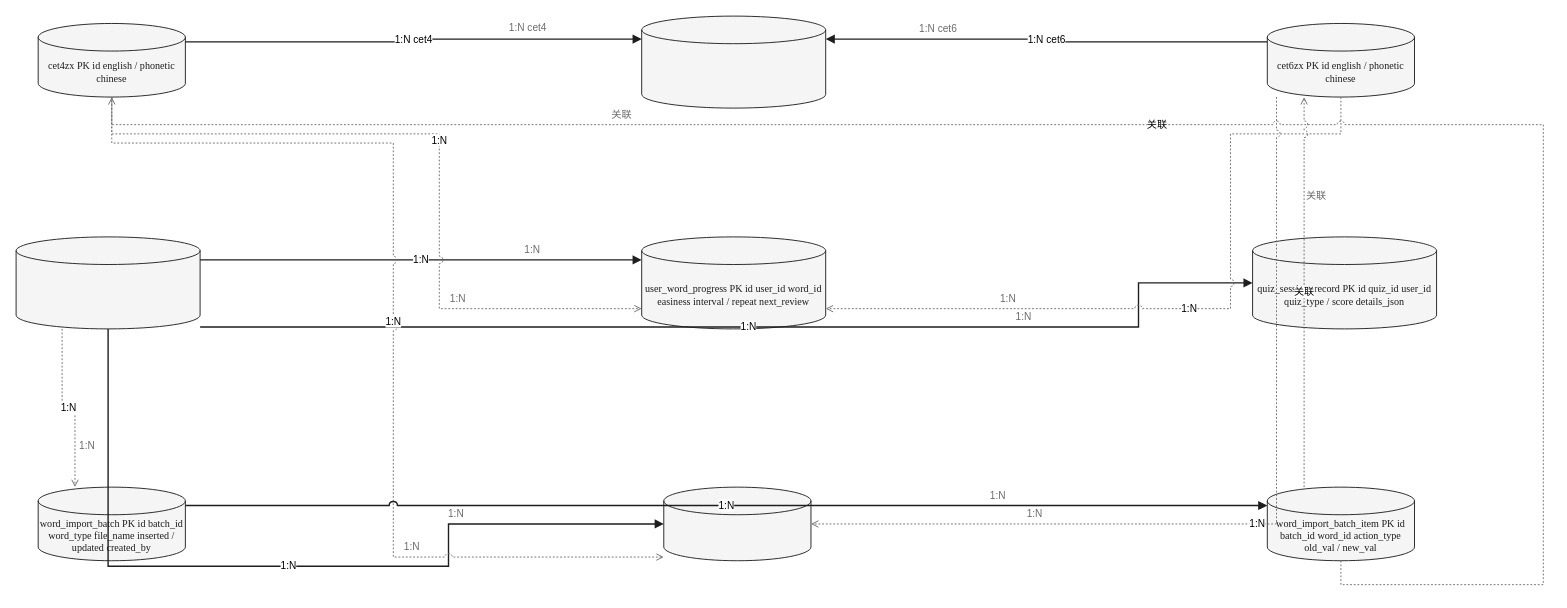
This 1567x608 diagram has some shape labels left out. The box of each missing label's shape, as (x1, y1, x2, y2) in pixels:
review_log PK id user_id word_id score cost_ms / reviewed_at: (663, 486, 811, 561)
user PK id username role llm_style target: (15, 236, 200, 329)
word_meta PK id word_id word_type style / status ai_content: (641, 15, 826, 108)
